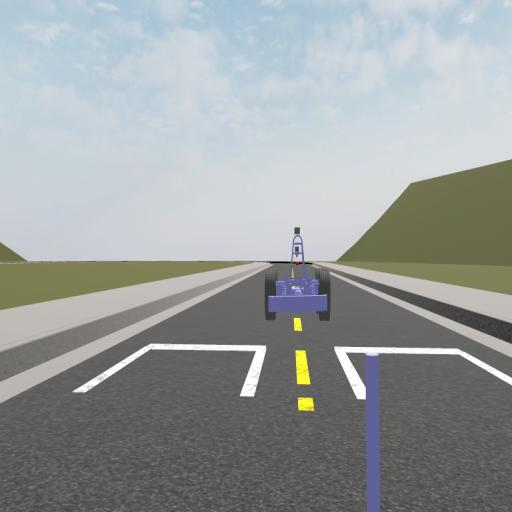ERP-42: (264, 226, 331, 319)
